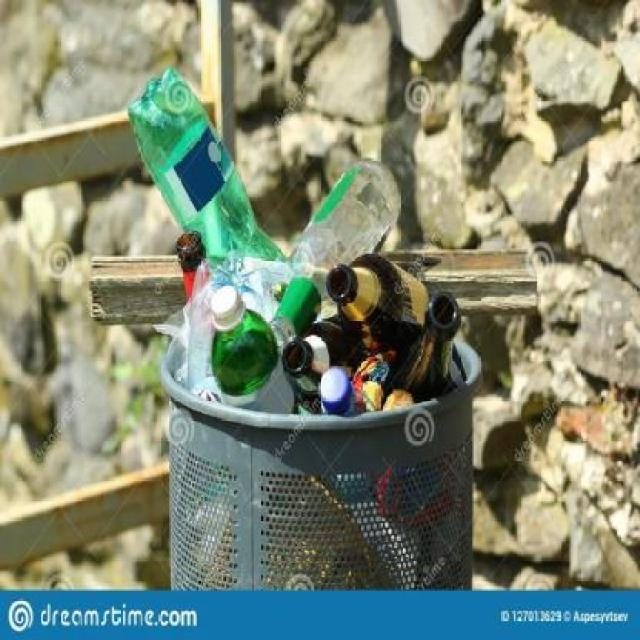garbage: (160, 235, 471, 408), (131, 65, 275, 284)
